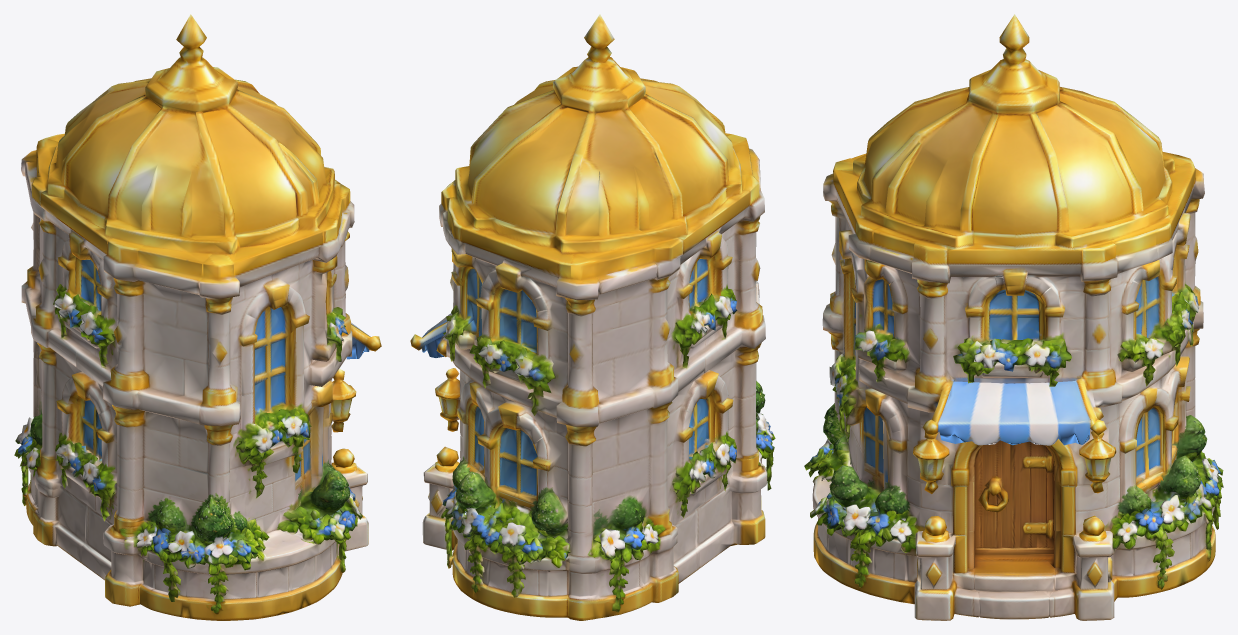
Rendered from HaloDomeHouse_03_HD_src.glb.
3 renders of one model, left to right at view 1: azimuth 30°, elevation 25°; view 2: azimuth 150°, elevation 25°; view 3: azimuth 270°, elevation 25°, orthographic. The views are drawn at different scales.
Parts seen in each view (by area): view 1: tripo_node_dbff1720-d4ca-44d4-8380-d6b48bfd51ea; view 2: tripo_node_dbff1720-d4ca-44d4-8380-d6b48bfd51ea; view 3: tripo_node_dbff1720-d4ca-44d4-8380-d6b48bfd51ea.
Part boxes in pixels (<box>): tripo_node_dbff1720-d4ca-44d4-8380-d6b48bfd51ea: <box>14,14,381,620</box>; tripo_node_dbff1720-d4ca-44d4-8380-d6b48bfd51ea: <box>410,14,775,620</box>; tripo_node_dbff1720-d4ca-44d4-8380-d6b48bfd51ea: <box>804,14,1223,620</box>.
Bounding box in the file's own units: 0.5269 × 0.9753 × 0.6846.
Materials: 1 (1 with a texture image).
